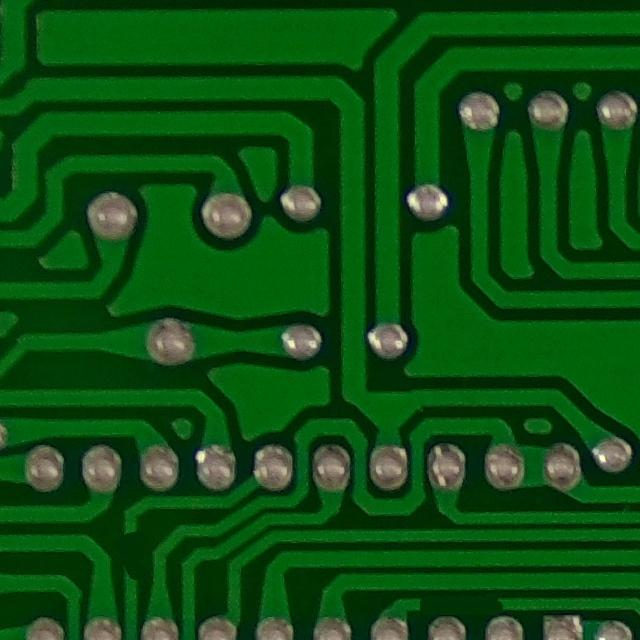open_circuit: (411, 592, 514, 615), (120, 523, 146, 592)
